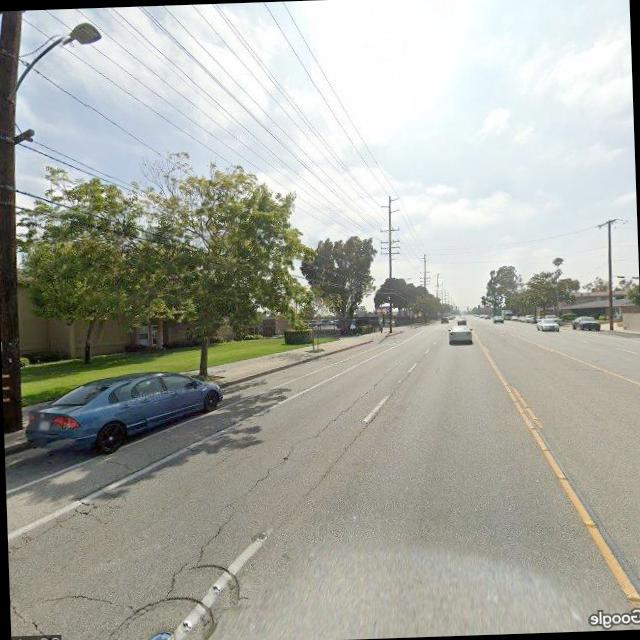pothole: (201, 378, 390, 521)
